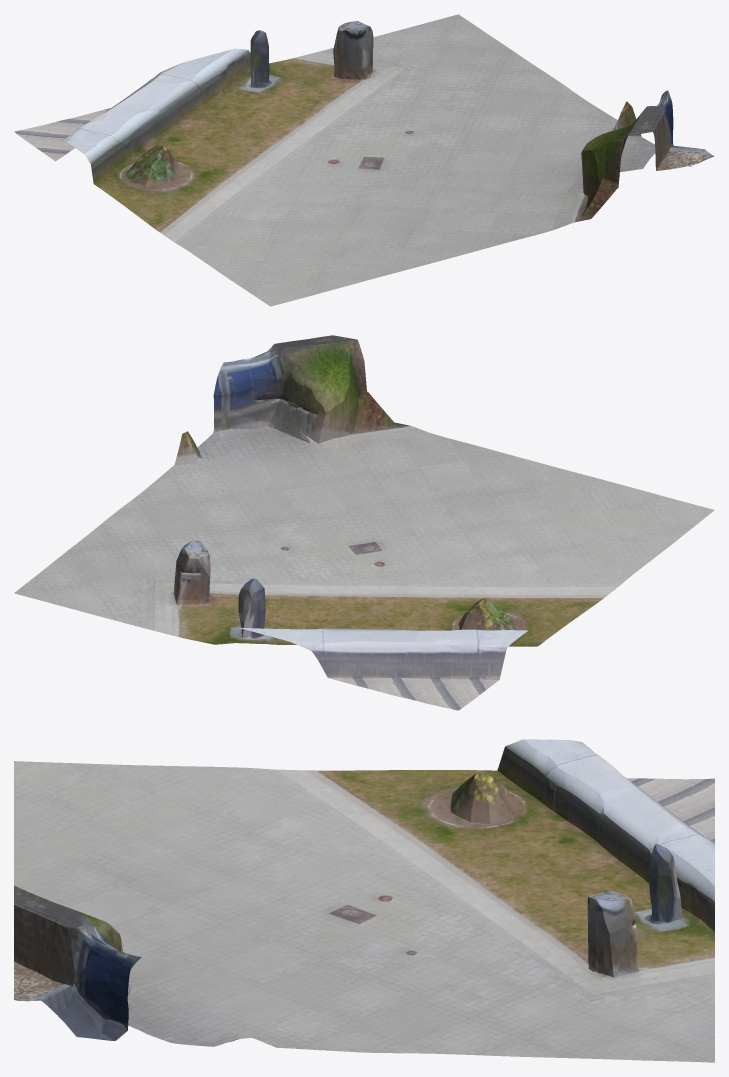
3 views of the same model, one above another, from view 1: azimuth 30°, elevation 25°; view 2: azimuth 150°, elevation 25°; view 3: azimuth 270°, elevation 25° (orthographic). The views are drawn at different scales.
Bounding box in the file's own units: 8.36 × 1.74 × 8.36.
Materials: 3 (3 with a texture image).
